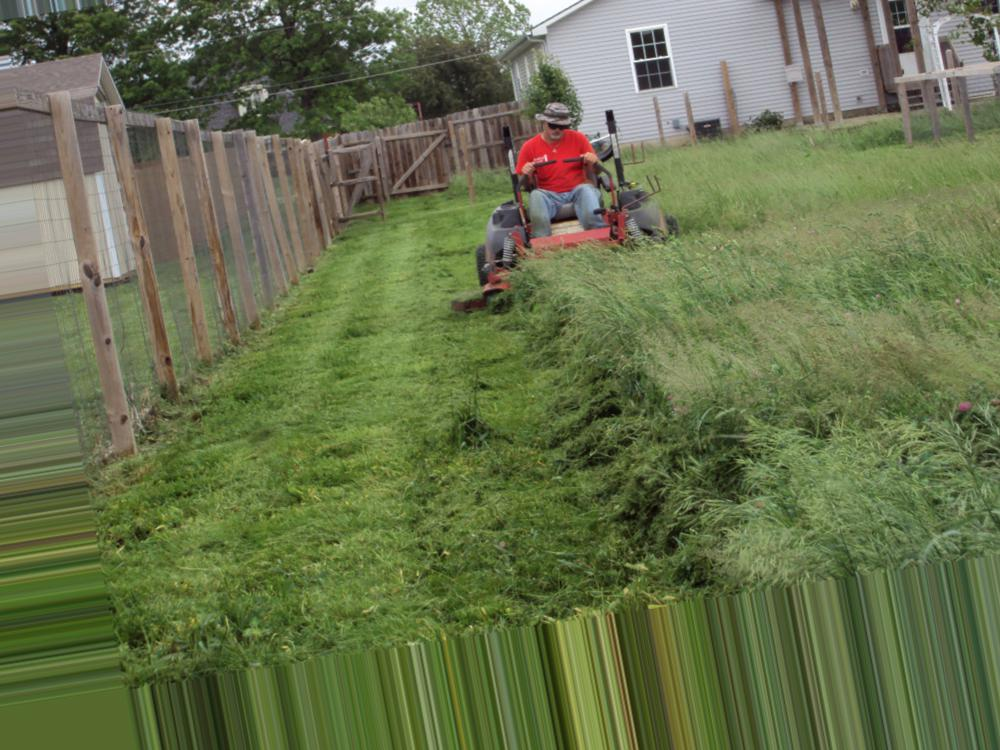patch: (764, 316, 938, 382)
